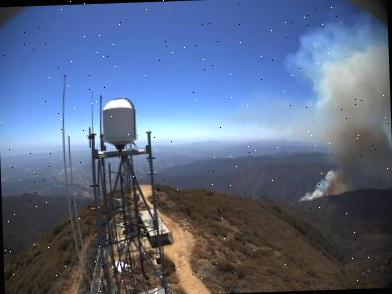smoke: (294, 16, 392, 202)
